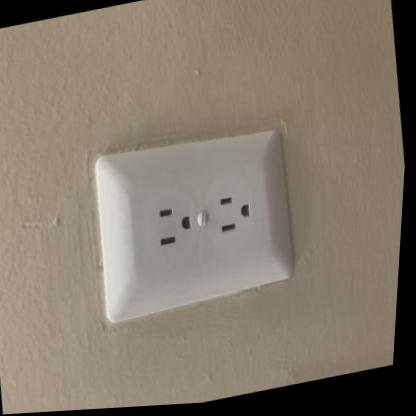OUTLET: (80, 119, 308, 326)
